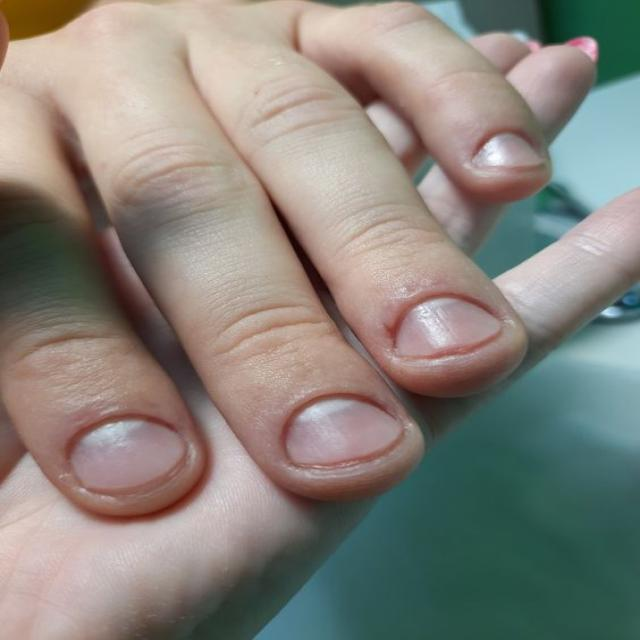Fingernail: (286, 396, 403, 469), (71, 417, 183, 490), (397, 295, 502, 358), (475, 131, 541, 168)
